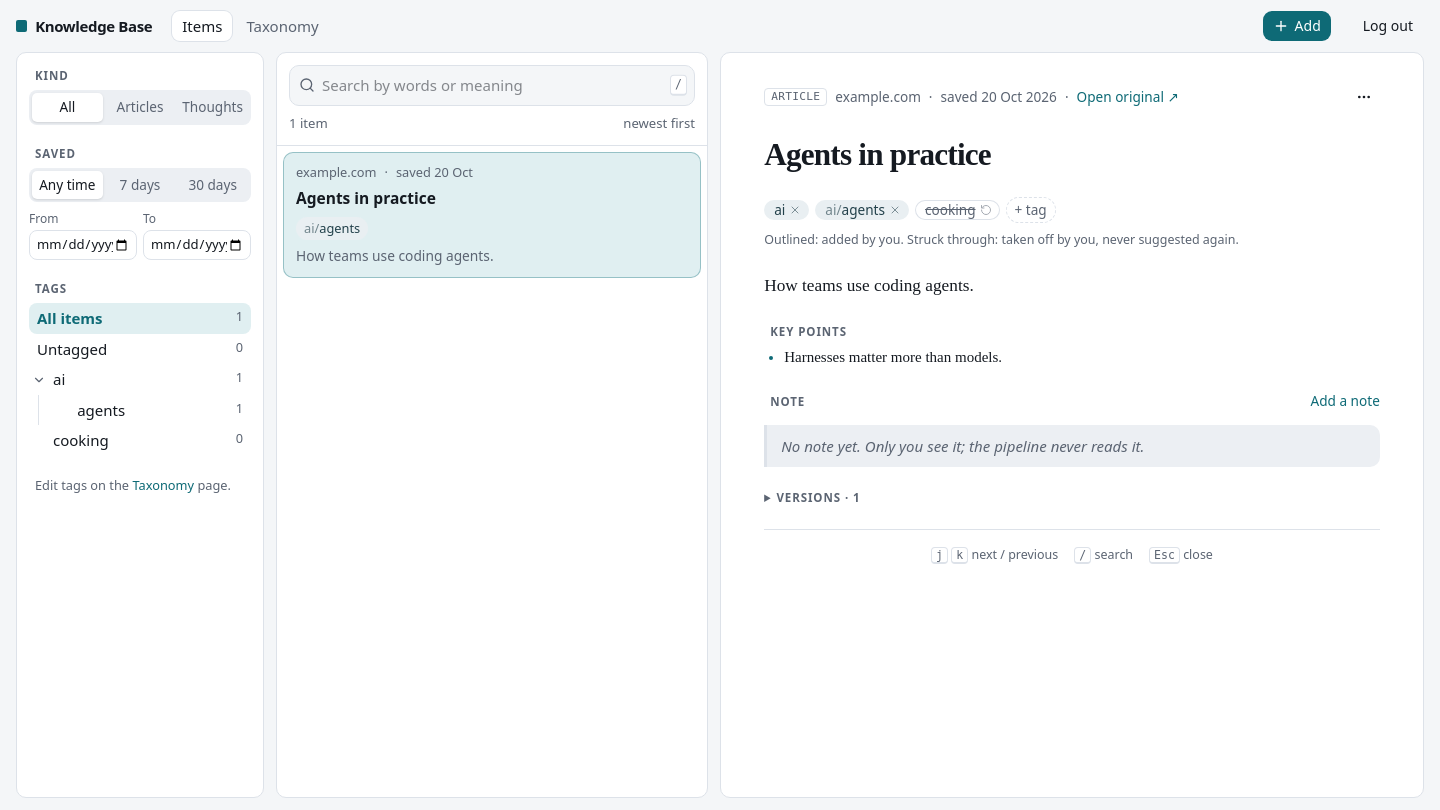
Test case: untag, allow again and add a Tag
Check: the element named "Selected item" is shown, box left=720, top=52, right=1424, bottom=798
Step 1. Click the button named "Untag ai/agents" → (897, 210), box left=885, top=200, right=909, bottom=220
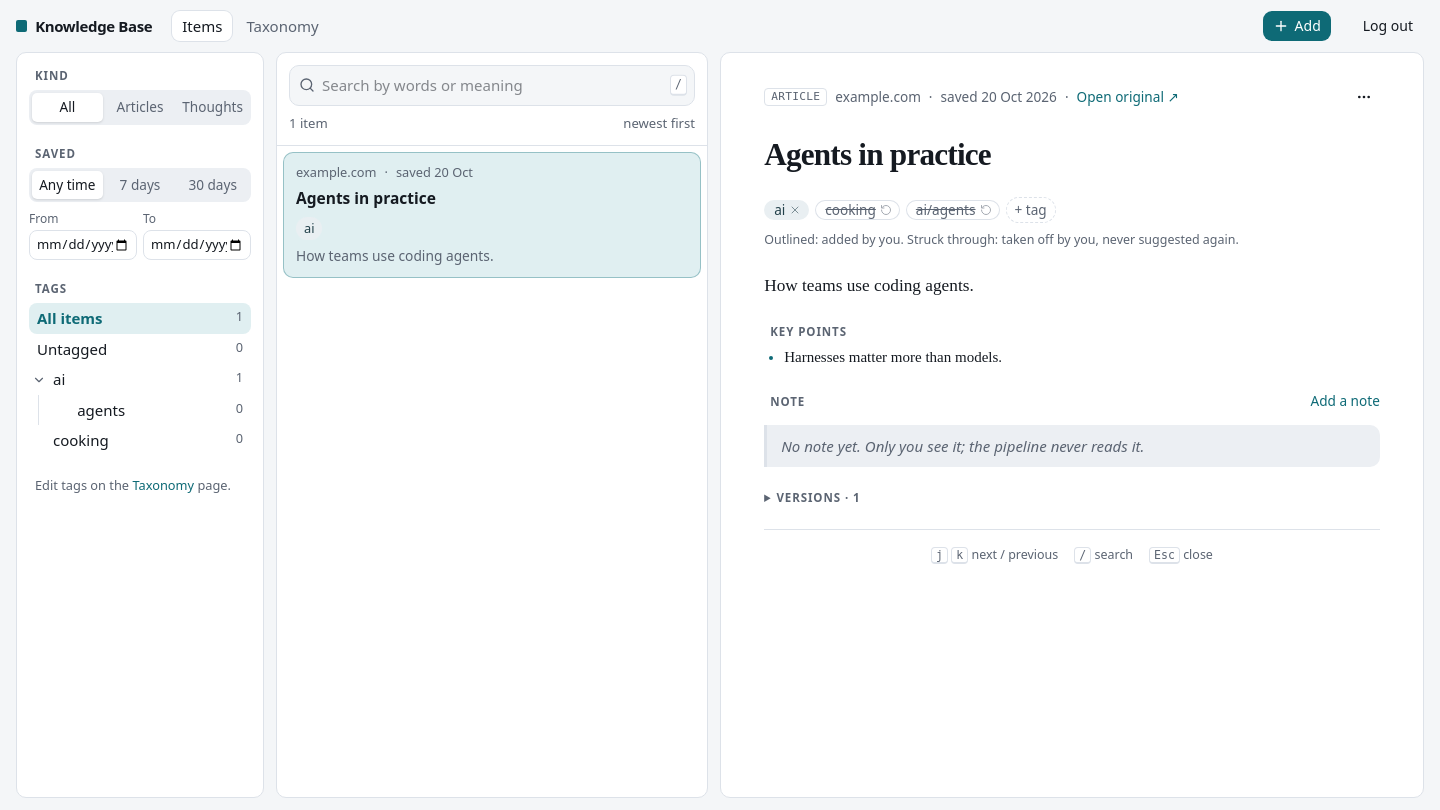
Check: the button named "Allow ai/agents again" is shown, box left=976, top=200, right=1000, bottom=220
Step 2. Click the button named "Allow cooking again" → (888, 210), box left=876, top=200, right=900, bottom=220
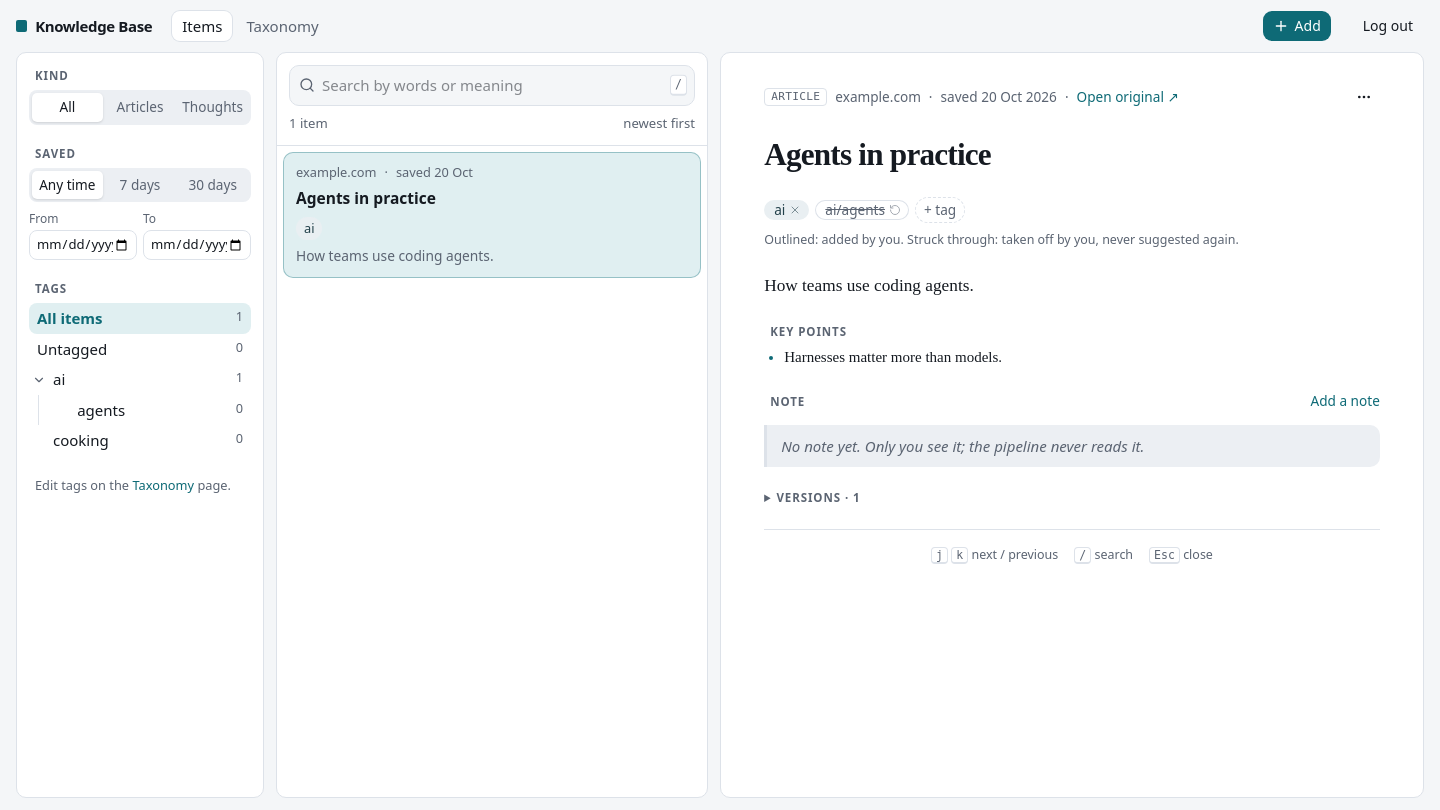
Step 3. Click the button "+ tag" → (940, 210), box left=915, top=197, right=965, bottom=223
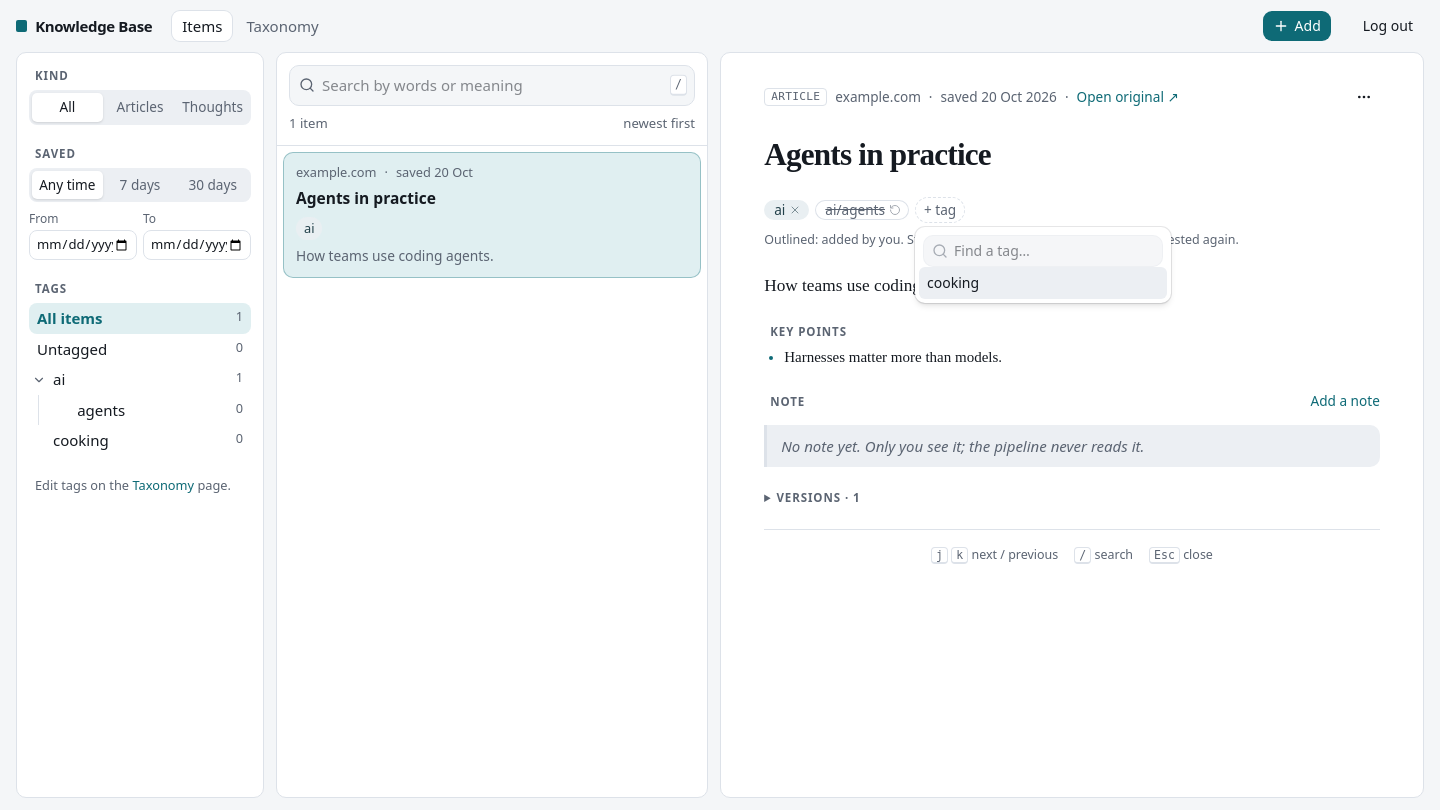
Step 4. Click the option "cooking" → (1043, 283), box left=919, top=267, right=1167, bottom=299
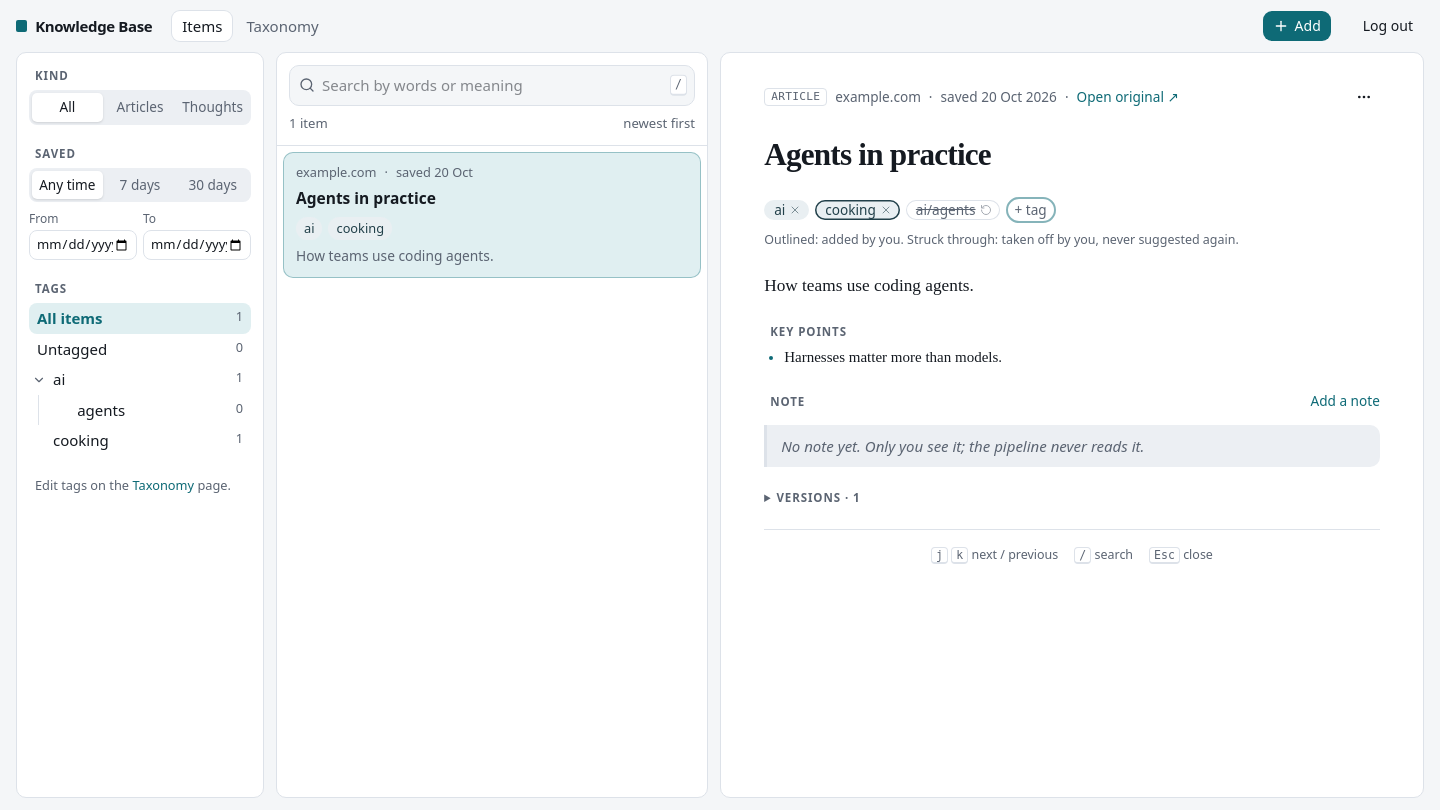
Check: the button named "Untag cooking" is shown, box left=876, top=200, right=900, bottom=220
